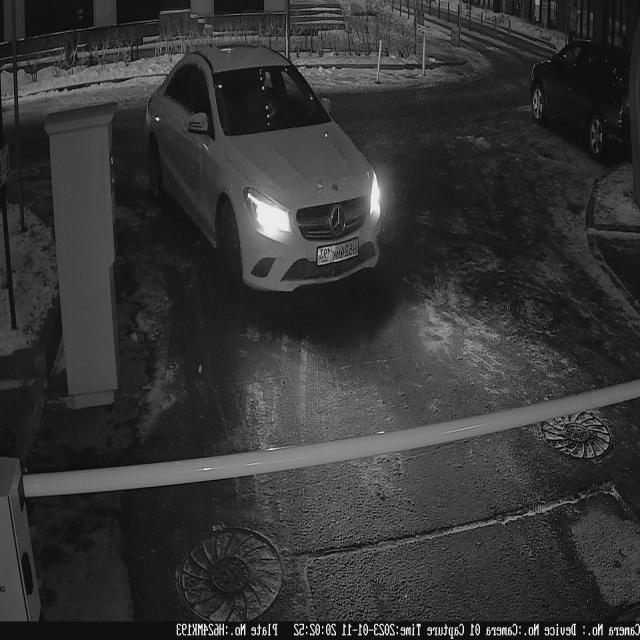car-plate-numbers: (317, 233, 365, 272)
